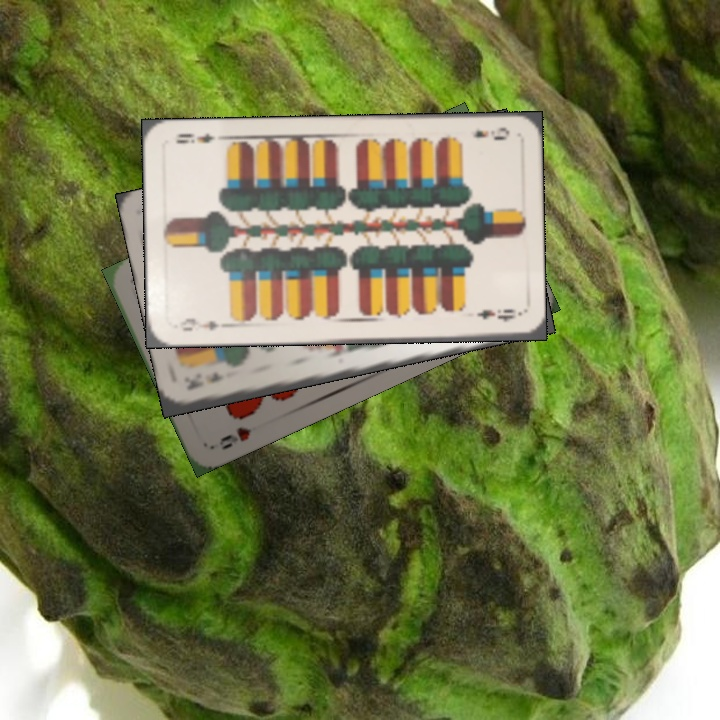E9: (176, 314, 230, 334), (469, 123, 512, 142)
EK: (181, 369, 226, 393)
H9: (215, 423, 254, 453)
